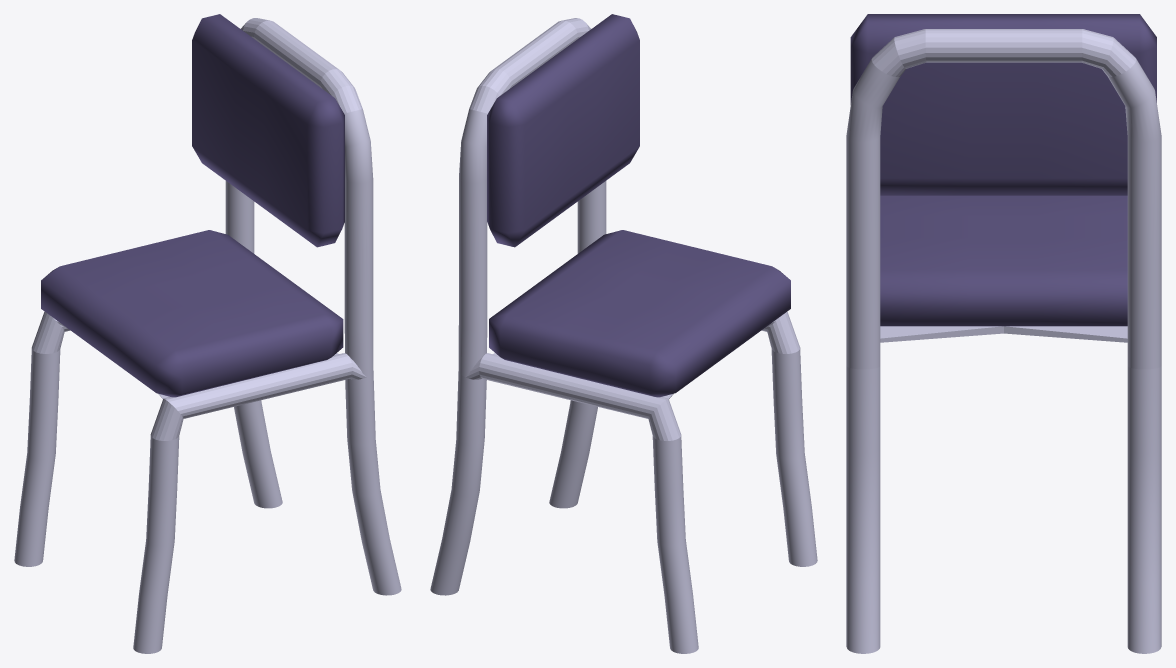
The model's file is DinerChair.fbx.
The picture shows the model from 3 angles, left to right: view 1: azimuth 30°, elevation 25°; view 2: azimuth 150°, elevation 25°; view 3: azimuth 270°, elevation 25°; orthographic projection. The views are drawn at different scales.
Parts seen in each view (by area): view 1: pCube2; view 2: pCube2; view 3: pCube2.
Part boxes in pixels (left/top/right/bottom): pCube2: left=14, top=14, right=401, bottom=653; pCube2: left=430, top=14, right=817, bottom=653; pCube2: left=846, top=14, right=1161, bottom=653.
Bounding box in the file's own units: 10.62 × 19.47 × 9.27.
